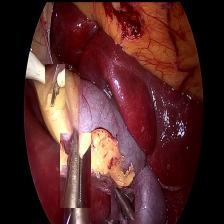Grasper: (59, 132, 90, 207), (110, 187, 134, 219)
Hook: (44, 62, 64, 108)
